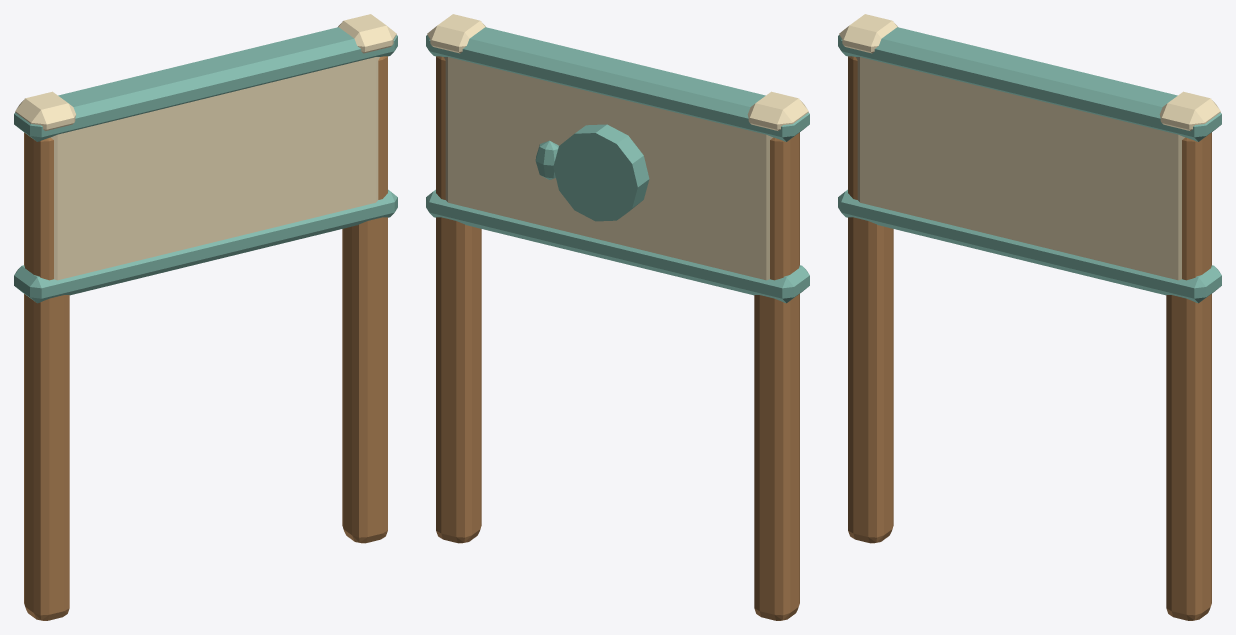
The model's file is SM_Signboard.fbx.
The picture shows the model from 3 angles, left to right: view 1: azimuth 30°, elevation 25°; view 2: azimuth 150°, elevation 25°; view 3: azimuth 330°, elevation 25°; orthographic projection.
Parts seen in each view (by area): view 1: SignboardMesh; view 2: SignboardMesh; view 3: SignboardMesh.
Boxes of the visible parts, x1,y1,x2,y2 form: SignboardMesh: [14, 14, 397, 620]; SignboardMesh: [426, 14, 809, 620]; SignboardMesh: [838, 14, 1221, 620].
Bounding box in the file's own units: 0.74 × 0.99 × 0.1265.
